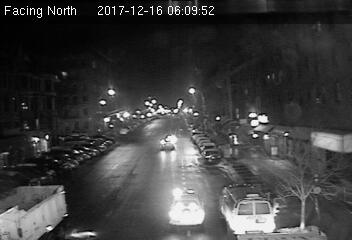car: (201, 148, 223, 164), (159, 138, 175, 149)
police: (217, 183, 276, 235)
